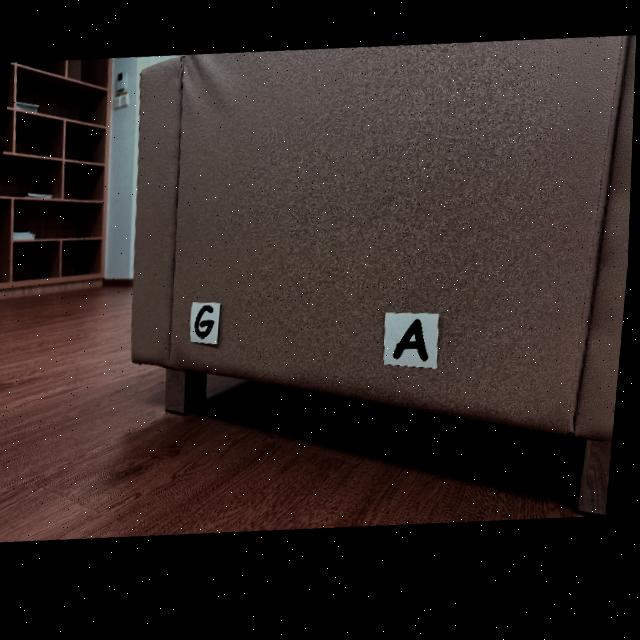A: (396, 328, 431, 369)
G: (198, 311, 217, 342)
